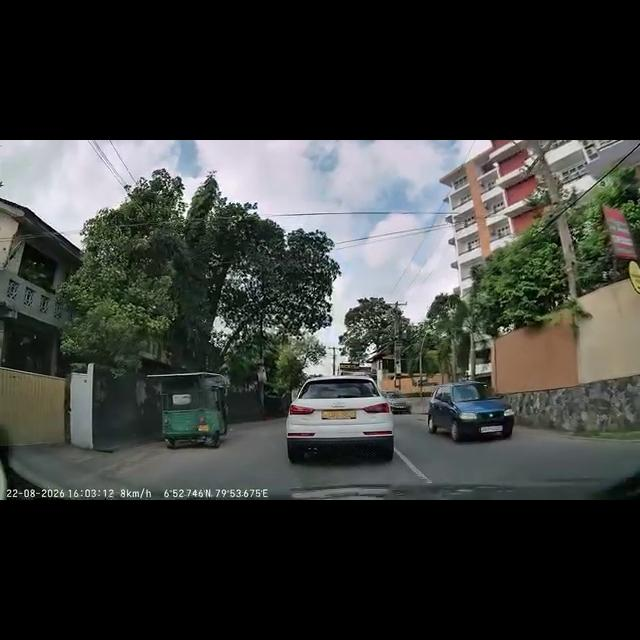illegal u turn: (296, 378, 388, 452), (443, 384, 505, 436)
